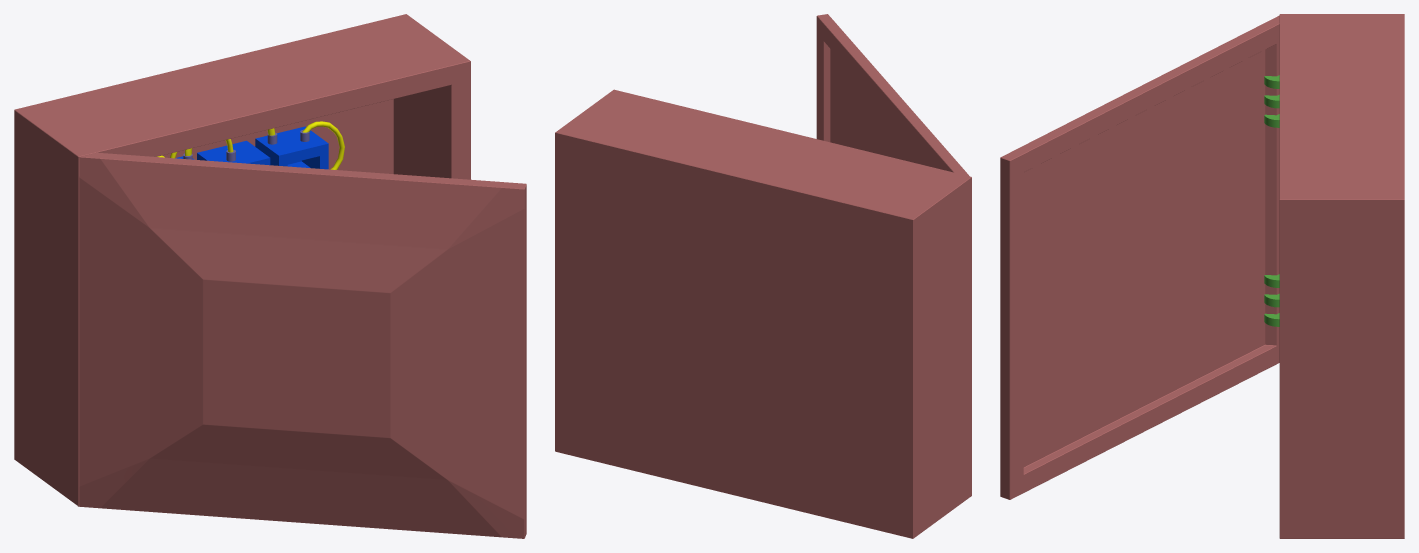
File: 3D_Caja_Electricidad_Abierta.fbx
3 views of the same model, side by side, from view 1: azimuth 30°, elevation 25°; view 2: azimuth 150°, elevation 25°; view 3: azimuth 270°, elevation 25° (orthographic). The views are drawn at different scales.
Visible parts, largest first — view 1: Caja_Electricidad1; view 2: Caja_Electricidad1; view 3: Caja_Electricidad1.
Boxes of the visible parts, <box> form: Caja_Electricidad1: <box>14,14,526,538</box>; Caja_Electricidad1: <box>555,14,971,538</box>; Caja_Electricidad1: <box>1000,14,1404,538</box>.
Bounding box in the file's own units: 27 × 23.04 × 24.84.
